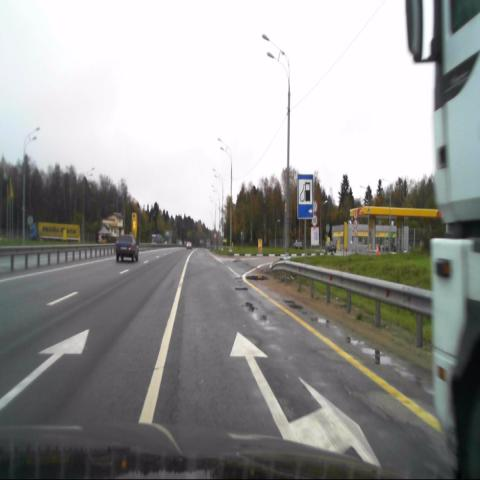7_3: (297, 174, 313, 219)
